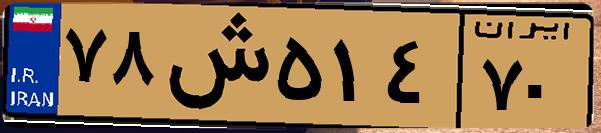0: (525, 38, 570, 115)
1: (330, 28, 385, 110)
4: (385, 28, 445, 110)
5: (270, 28, 330, 110)
7: (57, 26, 110, 100), (475, 38, 525, 113)
8: (110, 28, 158, 98)
ش: (158, 12, 270, 120)
